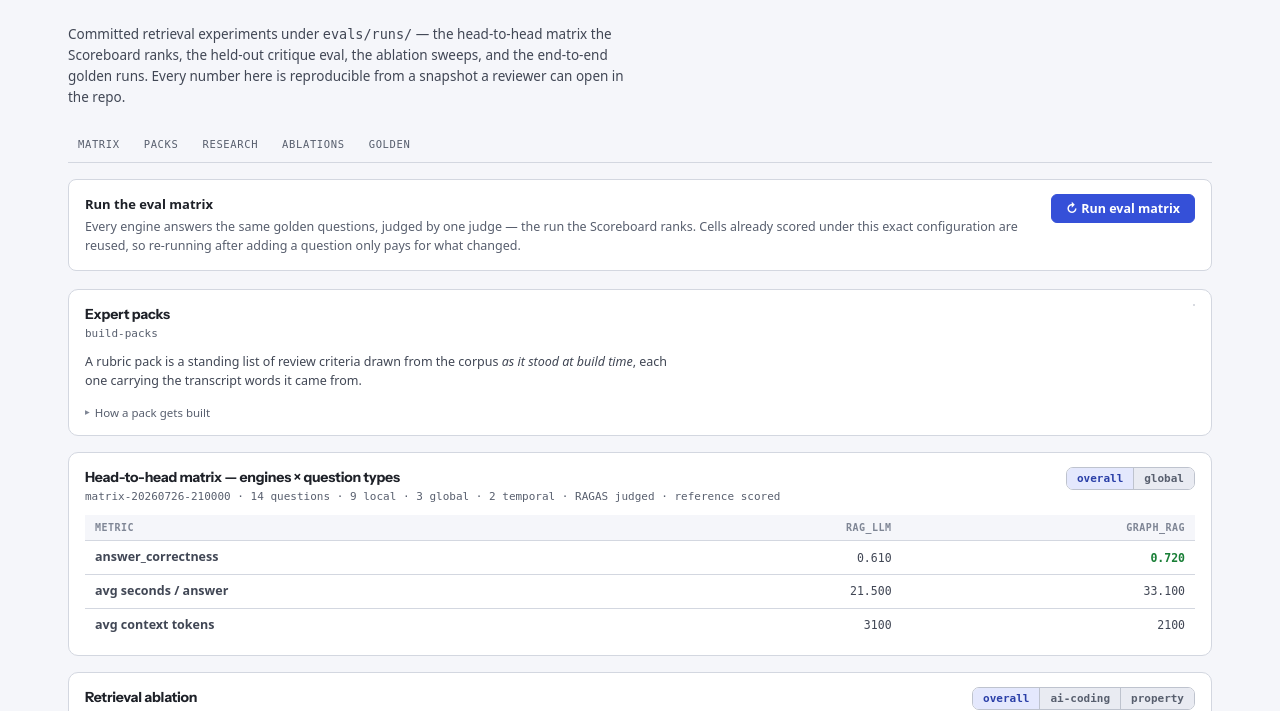
Test case: ExperimentsView › renders the head-to-head matrix with a question-type switcher
The image size is (1280, 711).
expect the heading "Head-to-head matrix — engines × question types" is shown: met, box [85,468,400,486]
expect the text "0.720" is shown: met, box [902,541,1195,574]
Click the tab "global": point(1164, 479) [1133,468,1194,489]
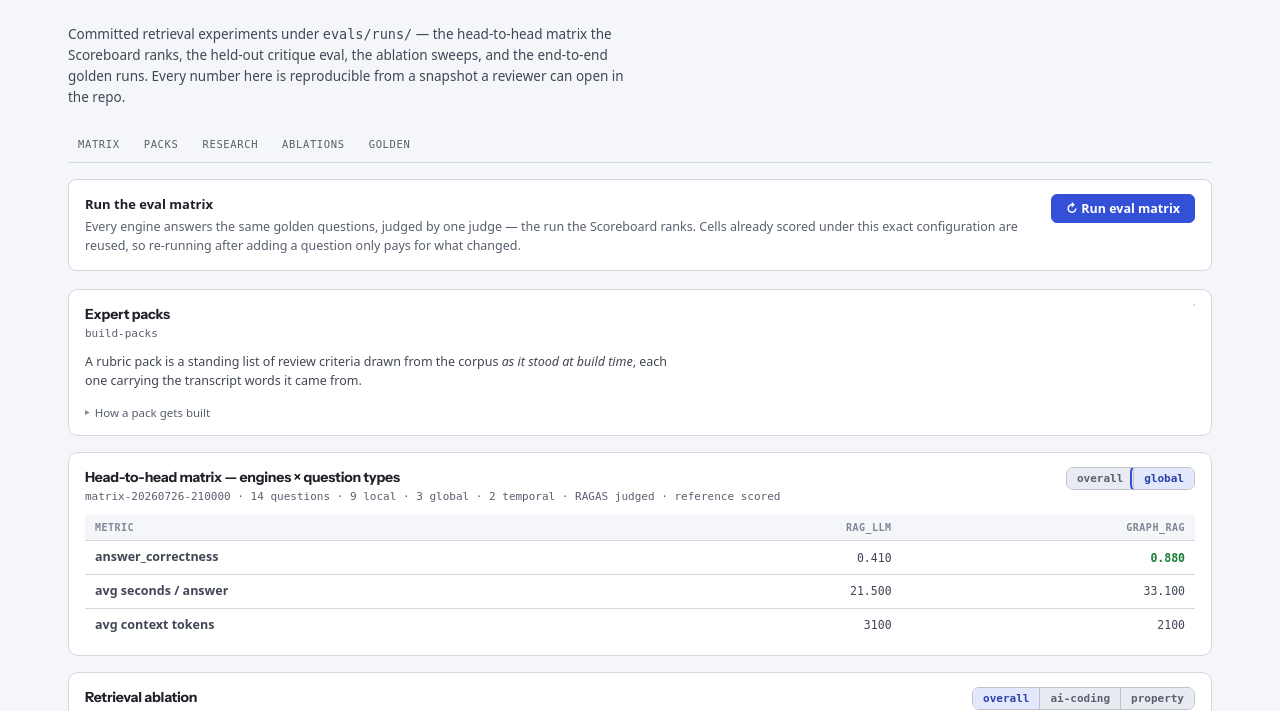
expect the text "0.880" is shown: met, box [902,541,1195,574]
expect the text "0.720" is gone: met
